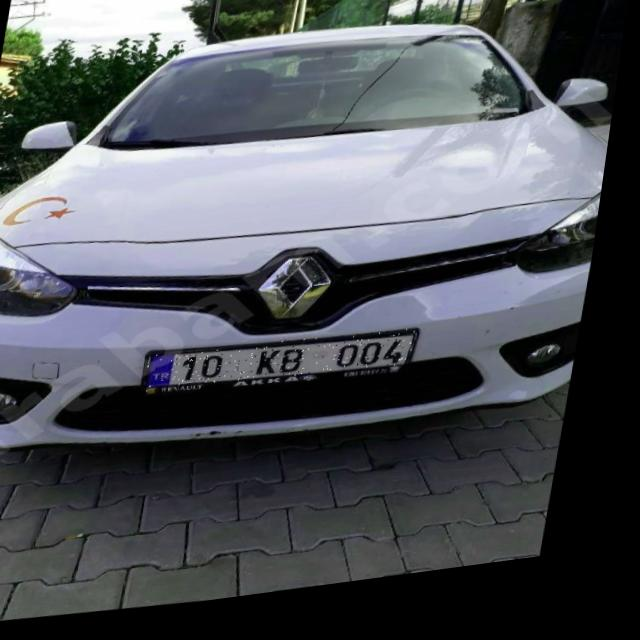license_plate: (151, 332, 428, 406)
